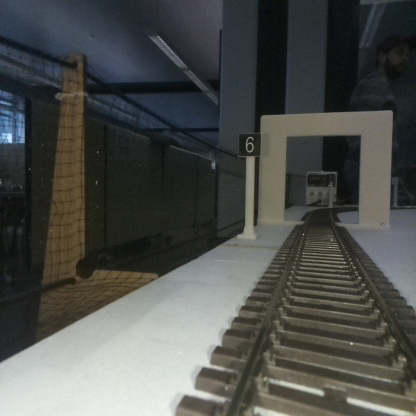black-info-6: (239, 134, 260, 237)
